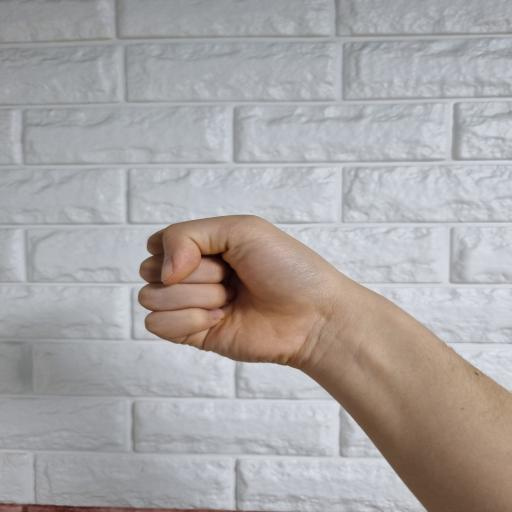Rock: (137, 214, 363, 378)
